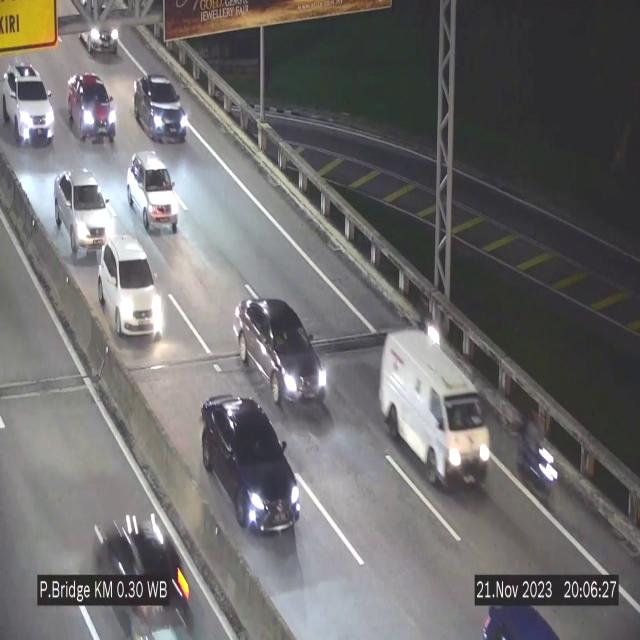Car: (378, 328, 491, 489), (93, 495, 201, 640), (201, 395, 301, 533), (227, 295, 331, 417), (98, 228, 164, 338), (54, 167, 116, 262), (62, 72, 120, 153), (126, 151, 178, 234), (3, 63, 55, 144), (134, 73, 188, 141), (78, 2, 122, 58)
Motorcycle: (519, 412, 557, 511)
